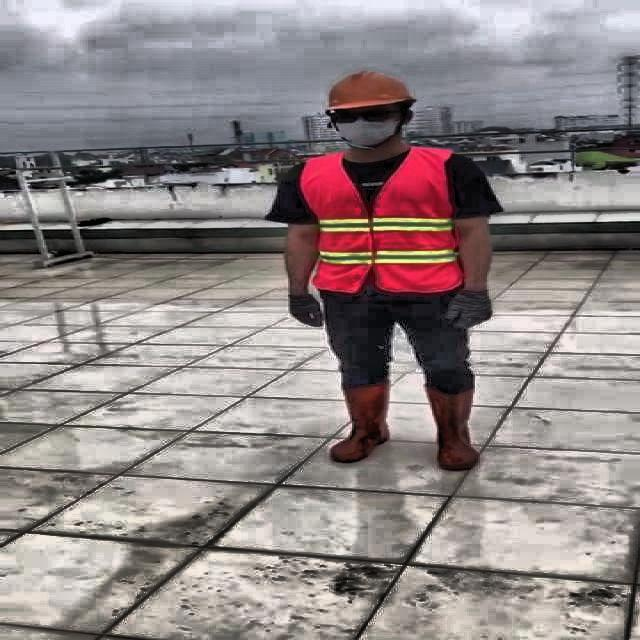safety_helmet: (326, 70, 416, 114)
safety_jacket: (298, 147, 462, 293)
